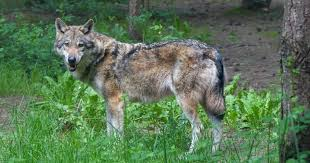Lobo: (42, 17, 230, 152)
